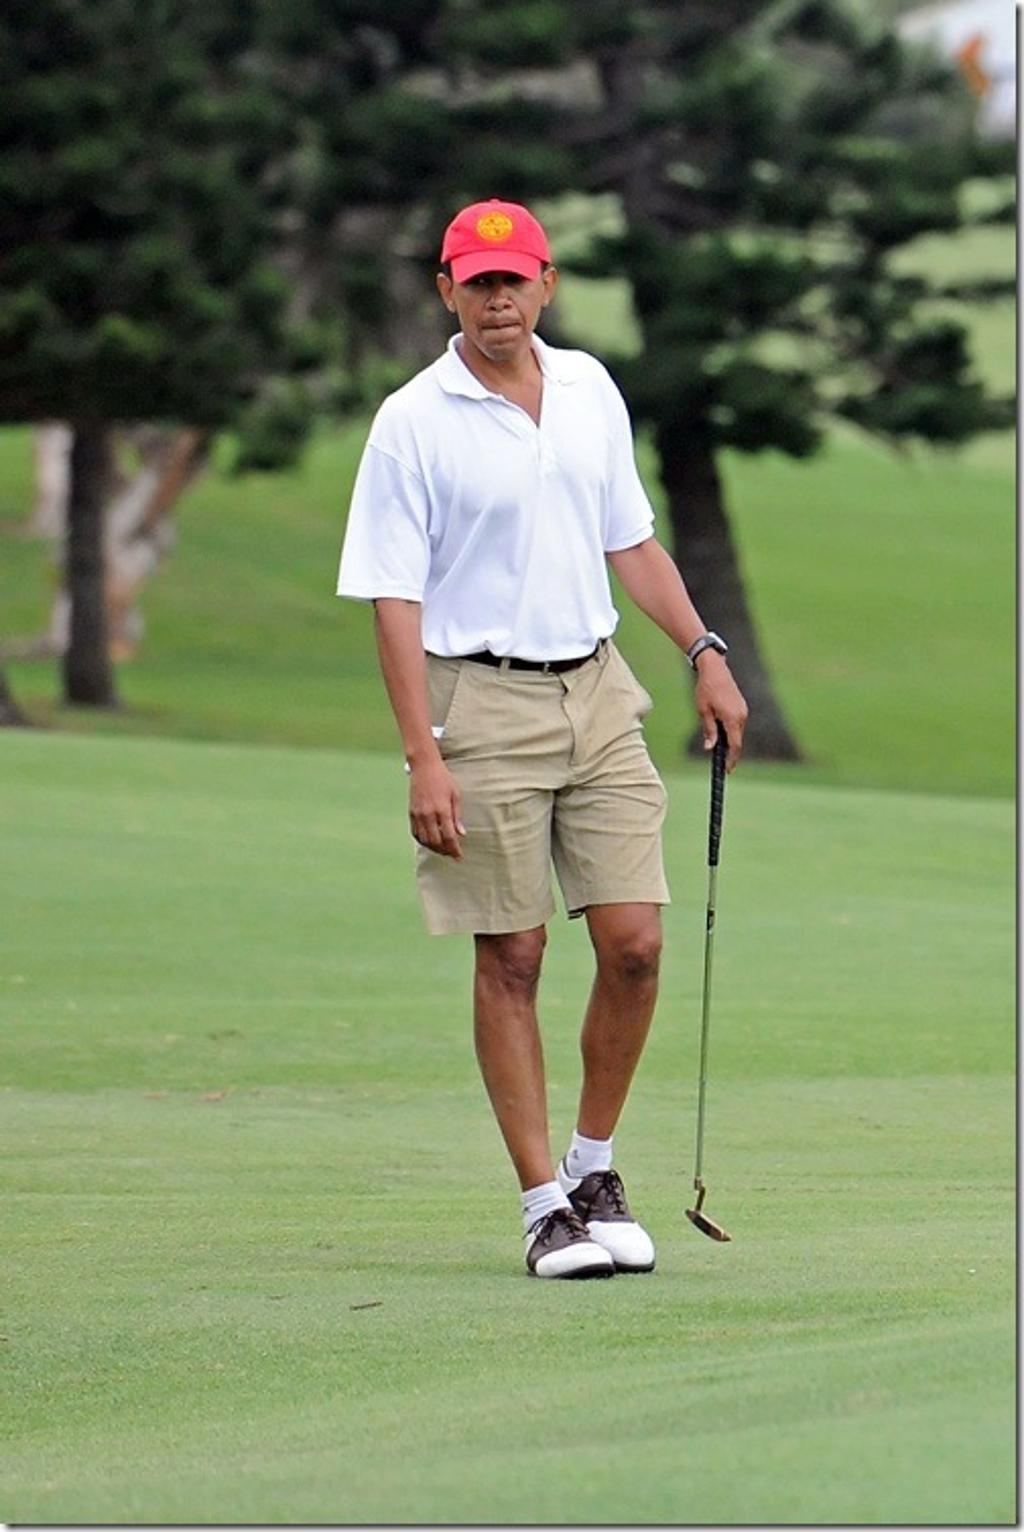face: (455, 237, 542, 363)
